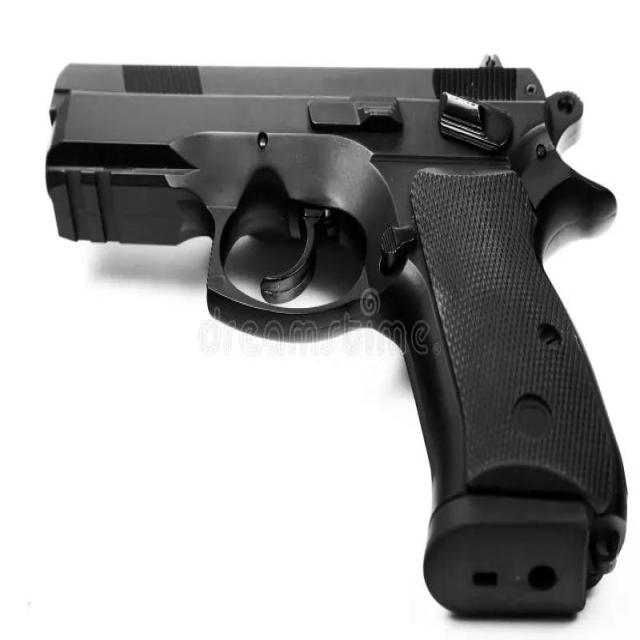gun: (43, 55, 630, 624)
